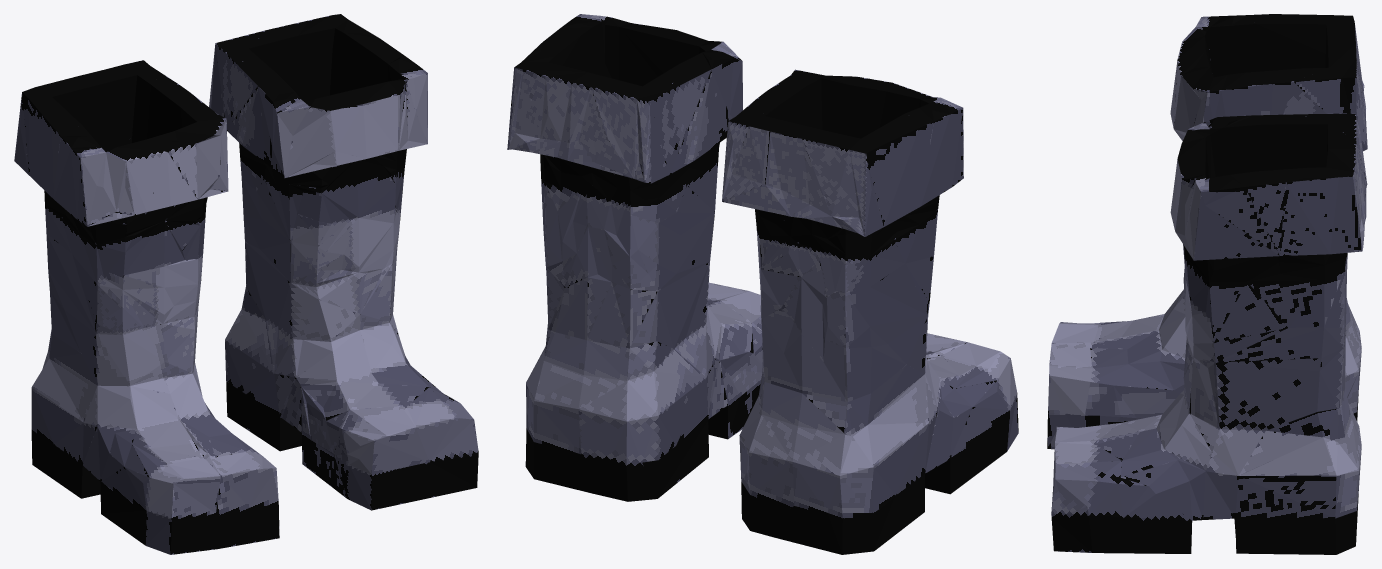
3 renders of one model, left to right at view 1: azimuth 30°, elevation 25°; view 2: azimuth 150°, elevation 25°; view 3: azimuth 270°, elevation 25°, orthographic. The views are drawn at different scales.
Parts seen in each view (by area): view 1: OBJ02b; view 2: OBJ02b; view 3: OBJ02b.
Boxes of the visible parts, x1,y1,x2,y2 form: OBJ02b: (14,14,478,554); OBJ02b: (507,14,1018,554); OBJ02b: (1047,14,1367,554).
Size of the model in its own units: 0.2435 by 0.2464 by 0.188.
Materials: 1 (1 with a texture image).
